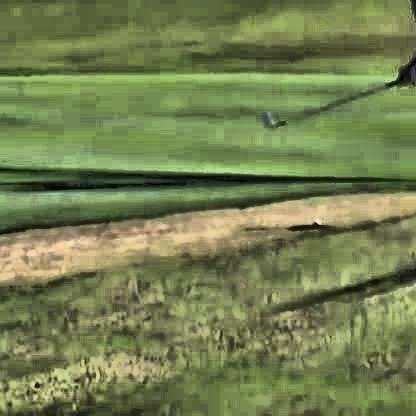golfball: (310, 215, 317, 225)
